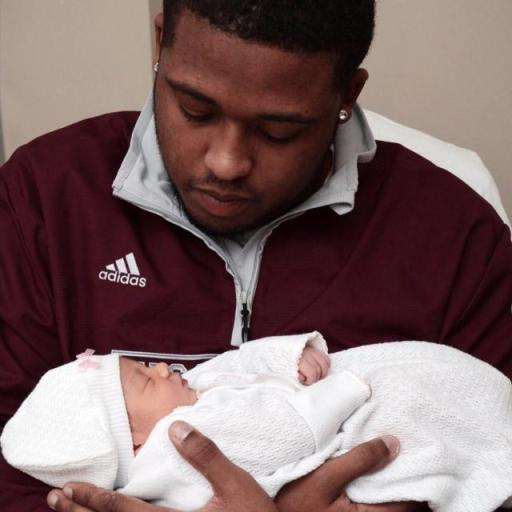Adidas: (95, 249, 149, 289)
